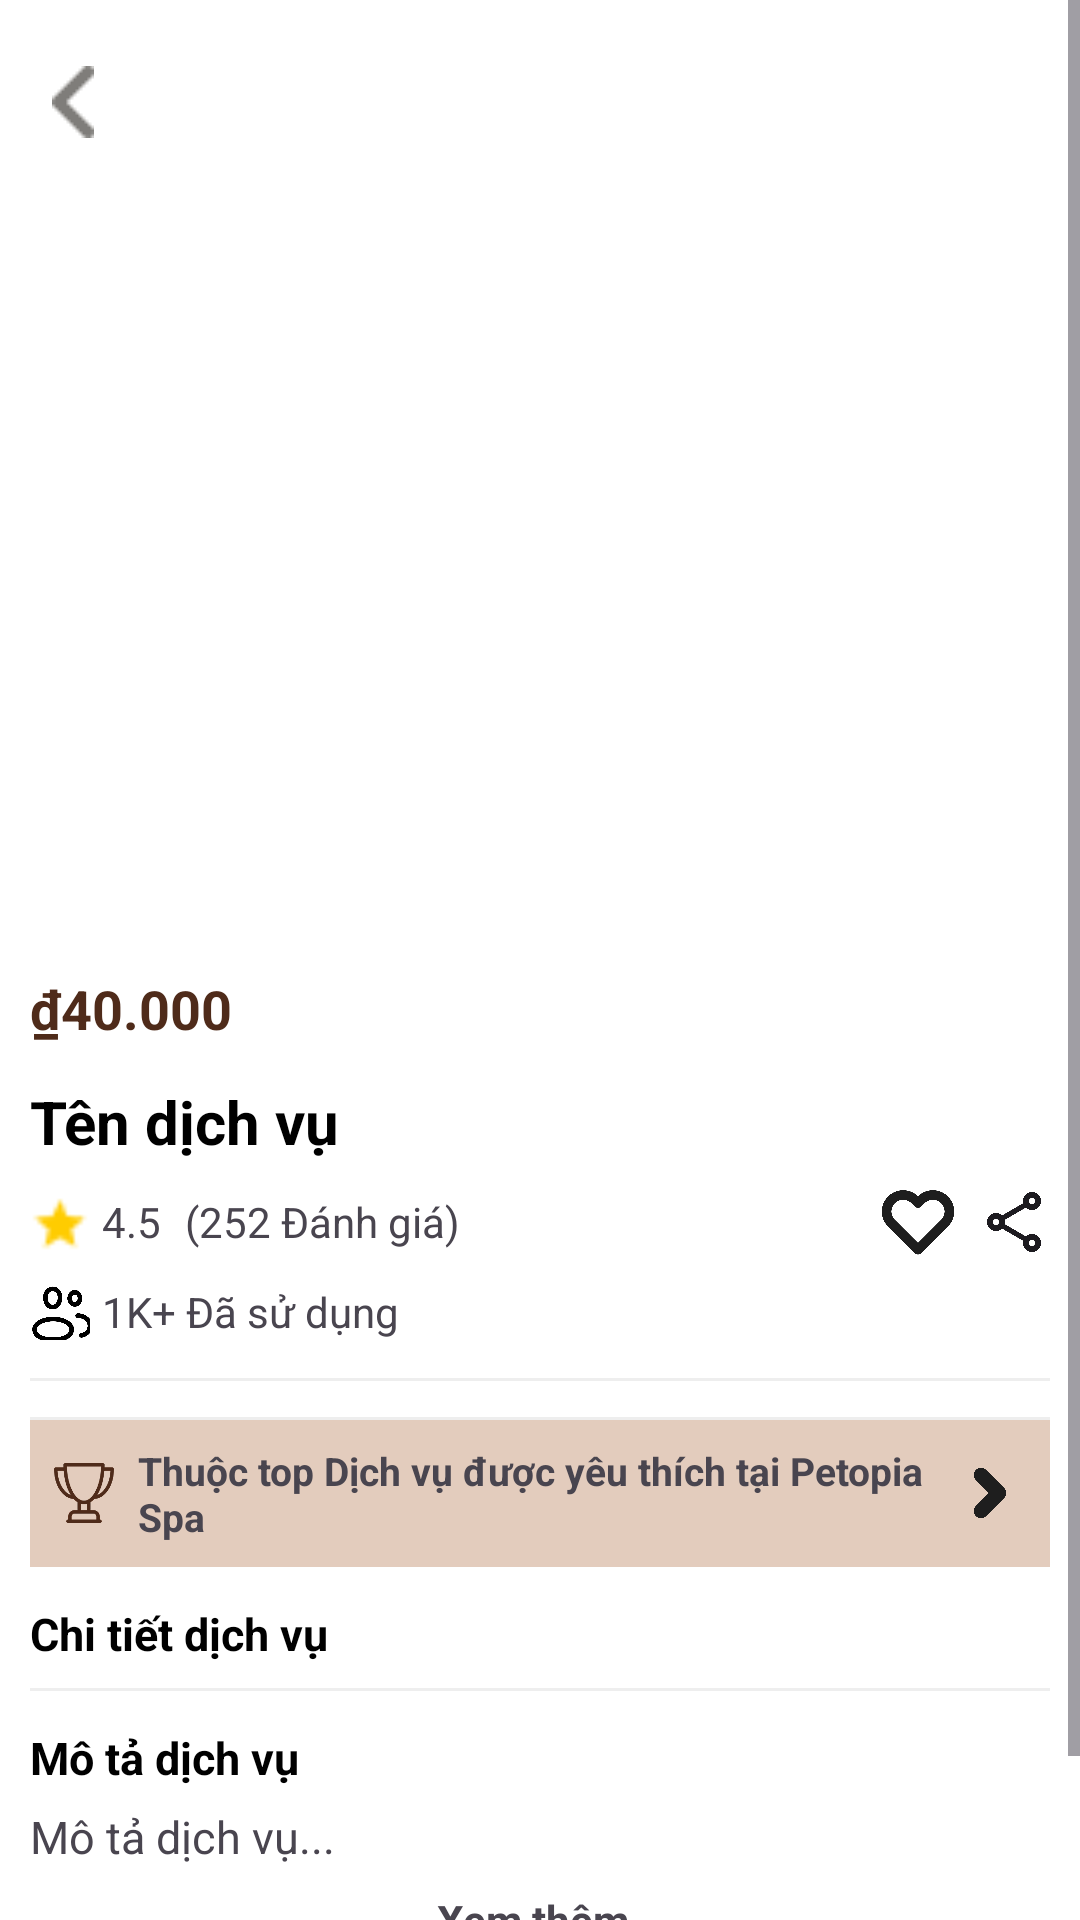

Named icons in this screenshot (1080px x 1920px) and their centers, [x,y]:
chevron right: [990,1493]
heart: [918,1222]
people: [61,1313]
share: [1014,1222]
star: [60,1223]
trophy: [84,1493]
